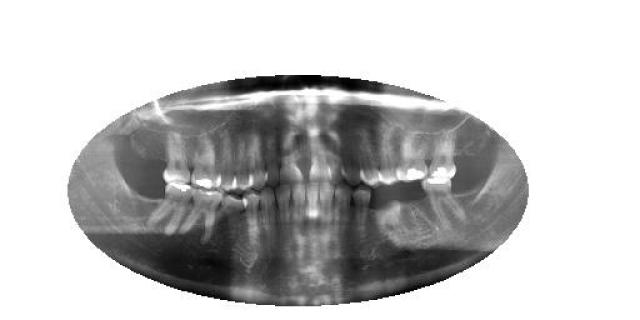Fillings: (148, 184, 194, 235), (422, 178, 468, 226), (190, 128, 222, 188), (400, 126, 429, 182), (428, 126, 458, 176)
